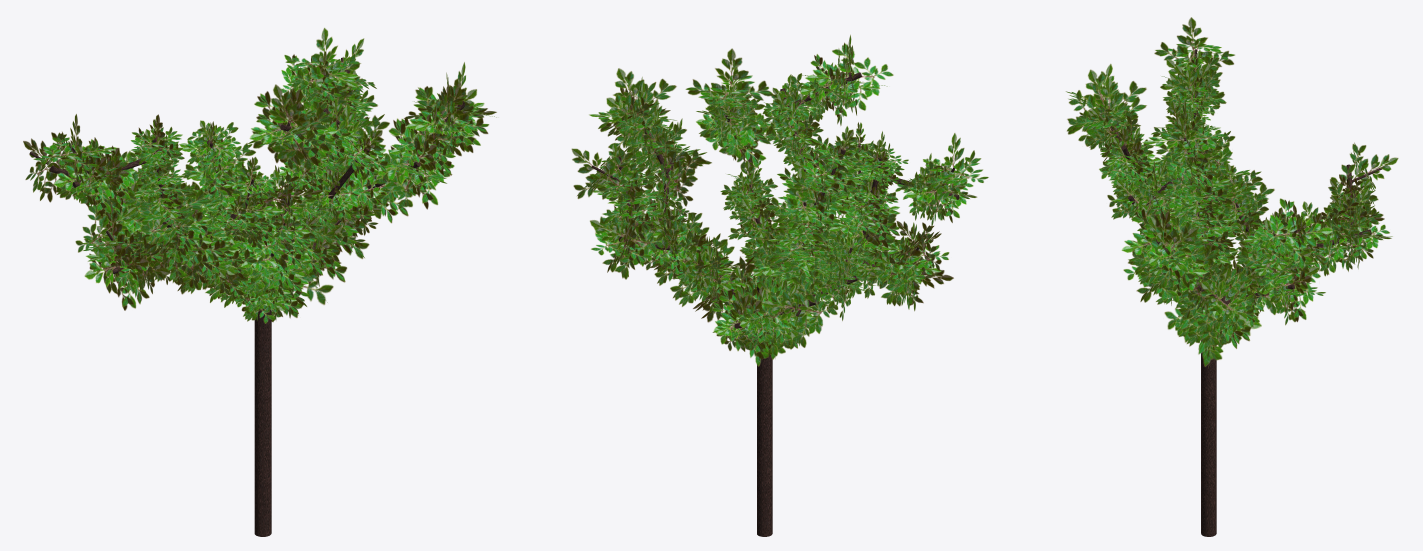
File: деревоСтатуяСветитсяКрасный.glb
3 renders of one model, left to right at view 1: azimuth 30°, elevation 25°; view 2: azimuth 150°, elevation 25°; view 3: azimuth 270°, elevation 25°, orthographic. The views are drawn at different scales.
Visible parts, largest first — view 1: ветки, деревоСтатуяСветитсяКрасный; view 2: ветки, деревоСтатуяСветитсяКрасный; view 3: ветки, деревоСтатуяСветитсяКрасный.
Boxes of the visible parts, x1,y1,x2,y2 form: ветки: (23, 27, 496, 323); деревоСтатуяСветитсяКрасный: (254, 265, 271, 536); ветки: (571, 34, 988, 366); деревоСтатуяСветитсяКрасный: (757, 281, 772, 536); ветки: (1066, 17, 1398, 366); деревоСтатуяСветитсяКрасный: (1201, 297, 1216, 536).
Bounding box in the file's own units: 2.28 × 2.44 × 1.74.
2 materials, 2 textured.
